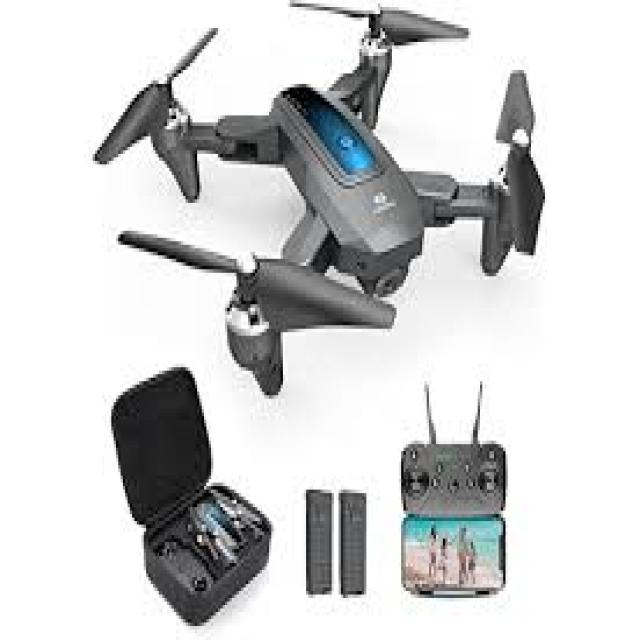drone: (80, 8, 568, 404)
